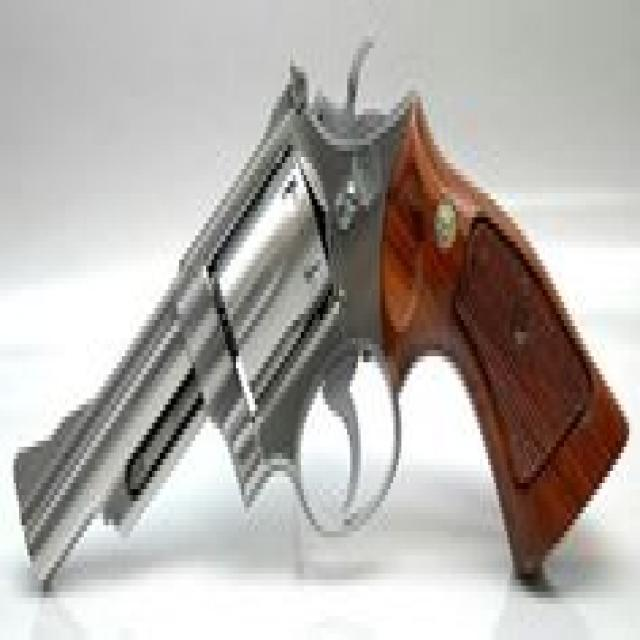revolver: (9, 28, 636, 617)
